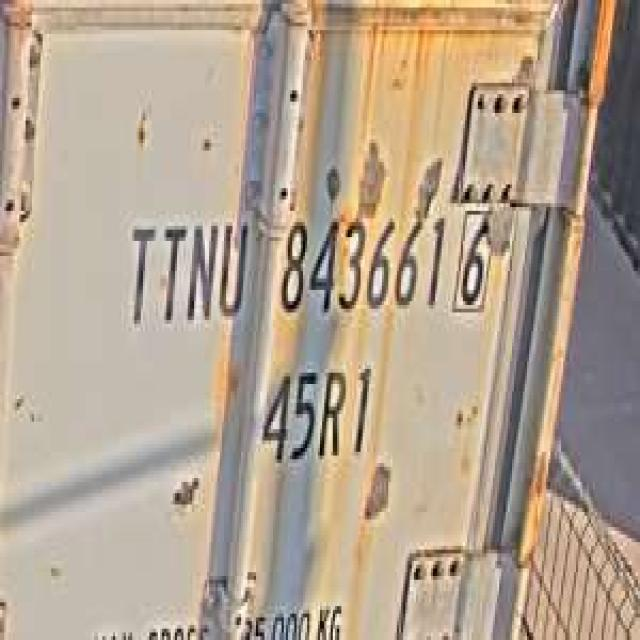dv: (450, 195, 497, 322)
owner: (117, 200, 250, 335)
serial: (273, 200, 448, 328)
size: (256, 350, 373, 471)
